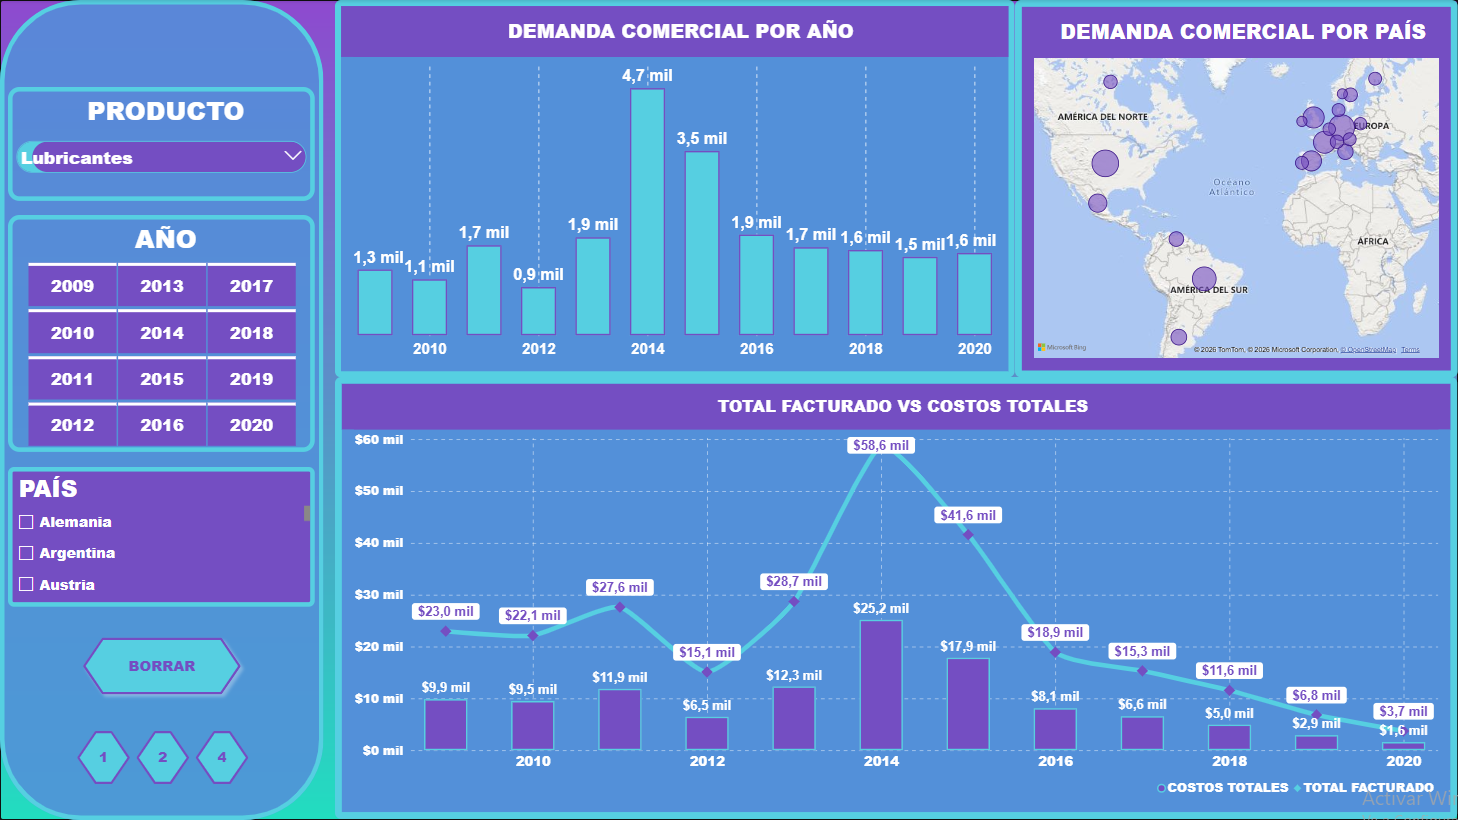

The page's visual inventory and layout, read from the dashboard file:
{"tool":"powerbi","page":{"name":"3","canvas":[1920,1080],"ordinal":2},"visuals":[{"type":"map","title":"DEMANDA COMERCIAL POR PAÍS","fields":{"Category":["Continentes.País"],"Size":["_Medidas.Demanda Total País"]},"box":[1336.7,0,583.3,496.7],"z":0},{"type":"shape","box":[0,0,426,1080],"z":1000},{"type":"pageNavigator","box":[101.7,963,226,70],"z":2000},{"type":"slicer","fields":{"Values":["Clientes.País"]},"box":[10.8,614.6,404,184],"z":3000},{"type":"actionButton","box":[99.6,831,226.2,92.3],"z":4000},{"type":"slicer","title":"AÑO","fields":{"Values":["CALENDARIO_GENERAL.Year"]},"box":[10.8,283.5,404,312],"z":5000},{"type":"slicer","title":"PRODUCTO","fields":{"Values":["Categorias.NombreCategoria","Productos.Nombre de producto"]},"box":[10.8,114.7,404,150],"z":6000},{"type":"clusteredColumnChart","title":"DEMANDA COMERCIAL POR AÑO","fields":{"Category":["CALENDARIO_GENERAL.Year"],"Y":["_Medidas.DemandaTotalDeLubricantesActivos"]},"box":[441.7,0,895,496.7],"z":7000},{"type":"lineClusteredColumnComboChart","title":"TOTAL FACTURADO VS COSTOS TOTALES ","fields":{"Category":["CALENDARIO_GENERAL.Year"],"Y":["_Medidas.CostosTotalesDeLubricantesActivos"],"Y2":["_Medidas.TotalFacturadoDeLubricantesActivos"]},"box":[441.7,496.7,1478.3,581.7],"z":8000}]}

Visuals, with their boxes on the page's 1920x1080 design canvas (x1, y1, x2, y2). These are canvas units, not pixel positions in the 1458x822 screenshot, which may show the page scaled, cropped or inside an application window:
"DEMANDA COMERCIAL POR PAÍS" map: (1337,0,1920,497)
shape: (0,0,426,1080)
pageNavigator: (102,963,328,1033)
slicer - Clientes.País: (11,615,415,799)
actionButton: (100,831,326,923)
"AÑO" slicer: (11,284,415,596)
"PRODUCTO" slicer: (11,115,415,265)
"DEMANDA COMERCIAL POR AÑO" clusteredColumnChart: (442,0,1337,497)
"TOTAL FACTURADO VS COSTOS TOTALES " lineClusteredColumnComboChart: (442,497,1920,1078)
